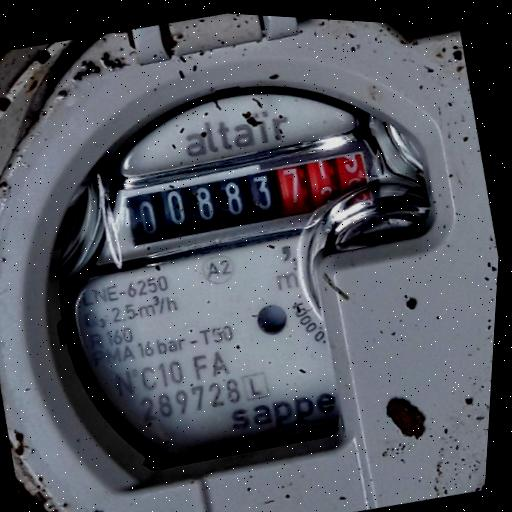0: (123, 190, 170, 246), (157, 184, 203, 241)
1: (305, 157, 347, 214)
3: (244, 169, 287, 225), (333, 151, 372, 199)
7: (274, 162, 319, 219)
8: (188, 180, 229, 235), (216, 175, 257, 229)
border_water_meter_number: (109, 124, 390, 278)
